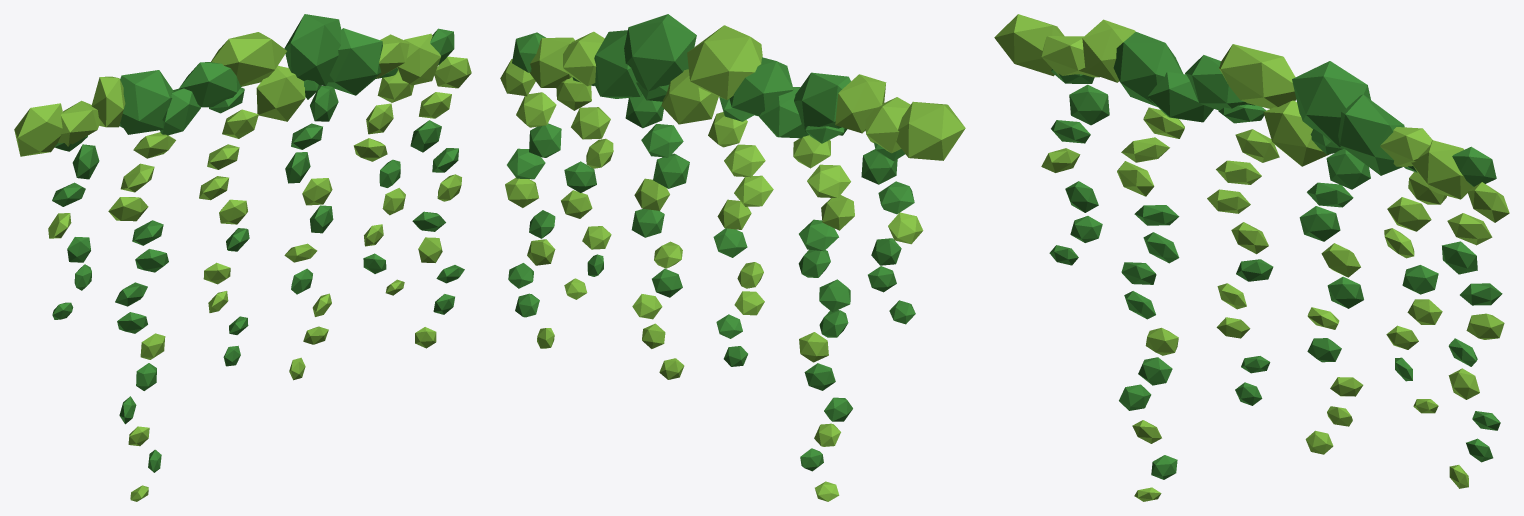
The model's file is Hiedra_Colgante.fbx.
The picture shows the model from 3 angles, left to right: view 1: azimuth 30°, elevation 25°; view 2: azimuth 150°, elevation 25°; view 3: azimuth 330°, elevation 25°; orthographic projection. The views are drawn at different scales.
Parts seen in each view (by area): view 1: Kit_Hiedra_Colgante; view 2: Kit_Hiedra_Colgante; view 3: Kit_Hiedra_Colgante.
Boxes of the visible parts, x1,y1,x2,y2 form: Kit_Hiedra_Colgante: [14, 14, 471, 501]; Kit_Hiedra_Colgante: [500, 14, 965, 501]; Kit_Hiedra_Colgante: [994, 14, 1509, 501].
Size of the model in its own units: 2.7 by 2.48 by 0.2898.
